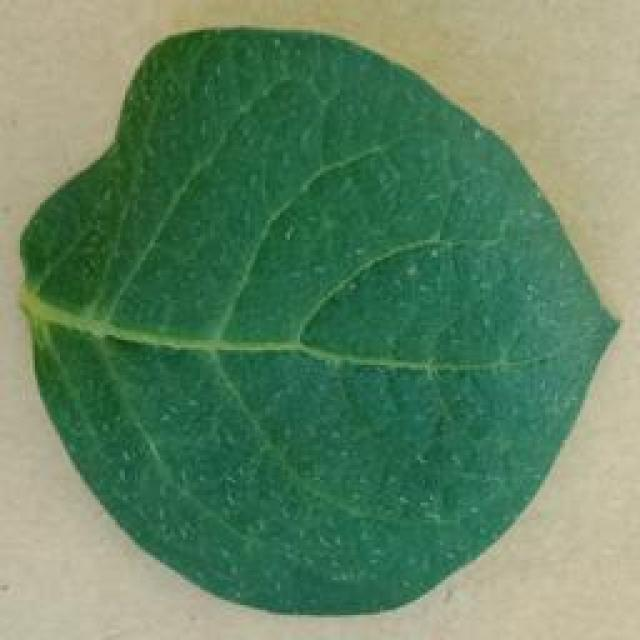Potato_Healthy: (18, 28, 613, 615)
